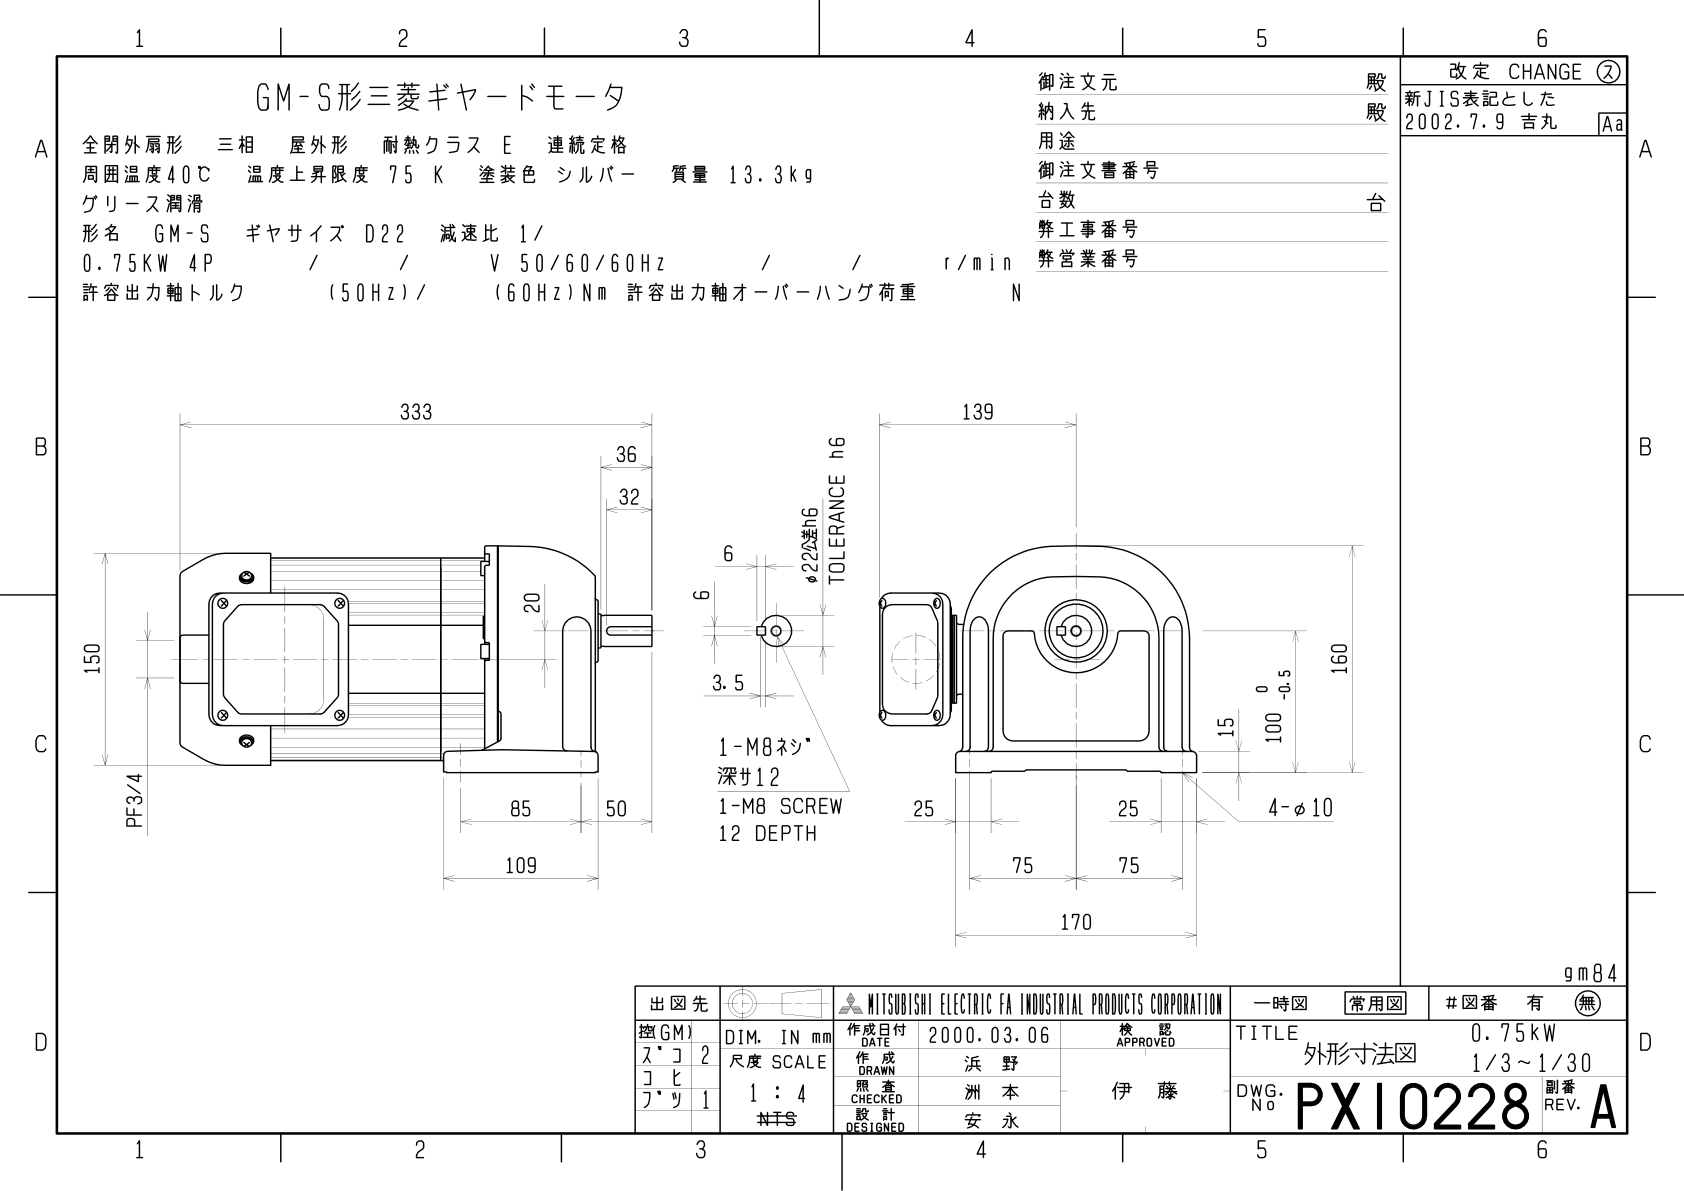GM_S_屋外＿三相_脚: (71, 384, 1383, 956)
